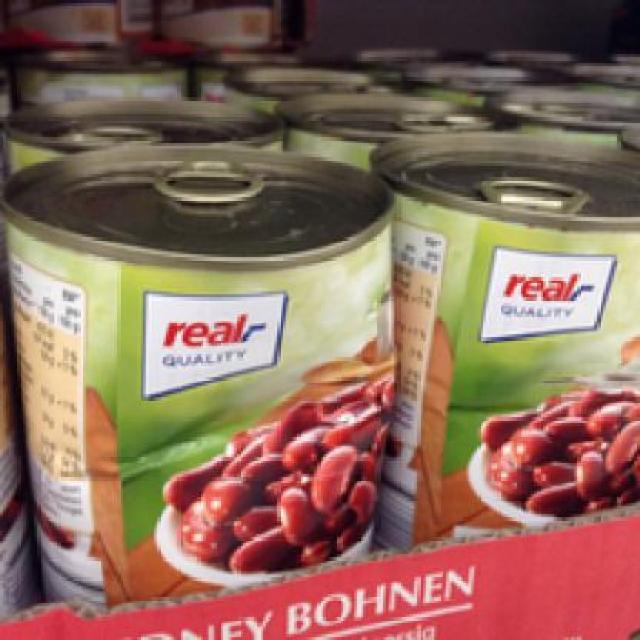Beans: (2, 148, 395, 612), (377, 132, 637, 574)
